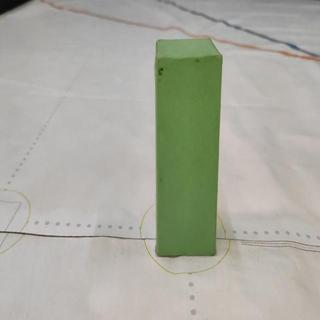greenbox: (153, 35, 224, 257)
